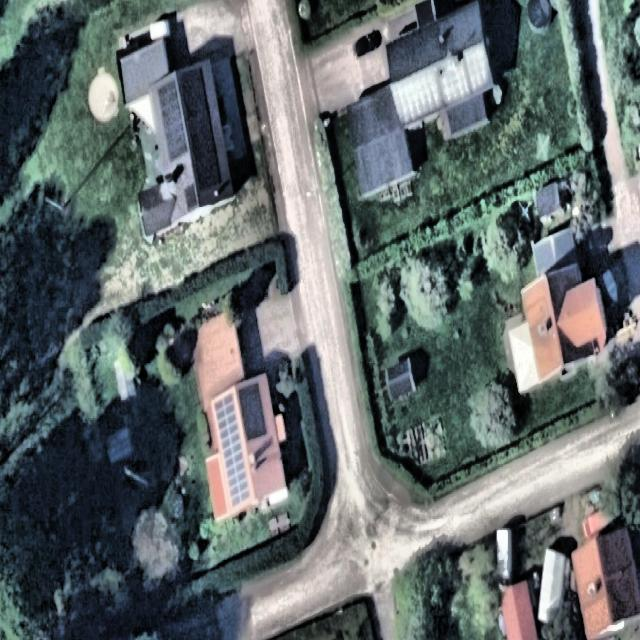roof_pv: (212, 393, 251, 509), (157, 77, 188, 164)
